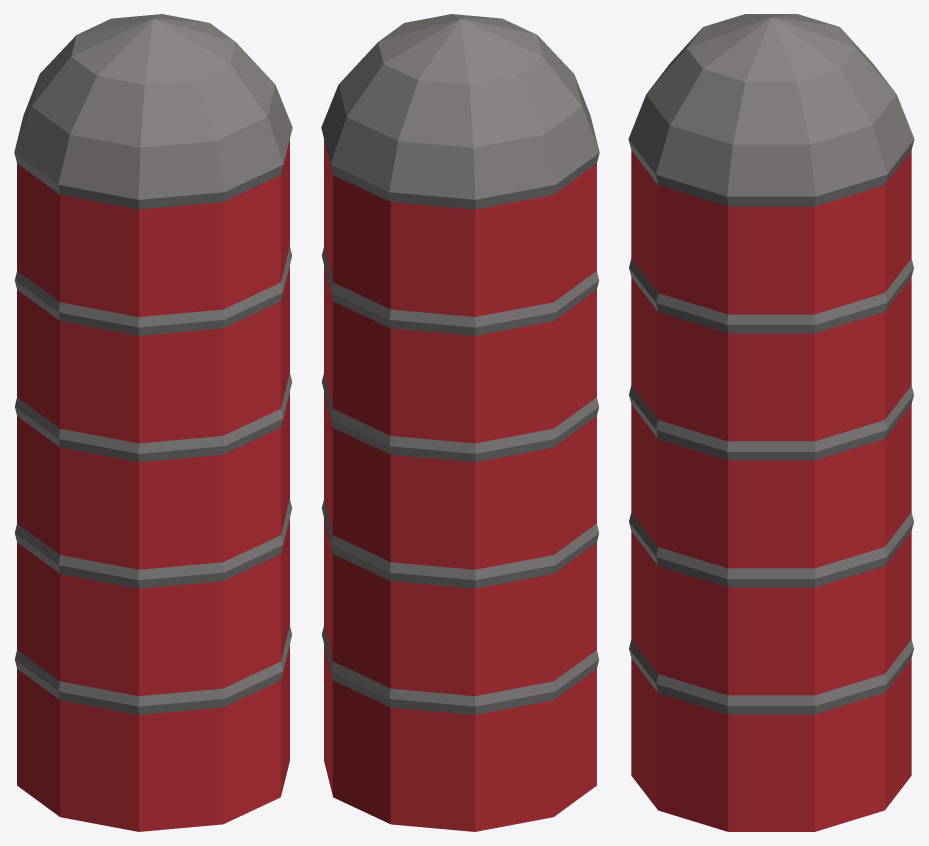
The model's file is farm-silo.glb.
3 views of the same model, side by side, from view 1: azimuth 30°, elevation 25°; view 2: azimuth 150°, elevation 25°; view 3: azimuth 270°, elevation 25° (orthographic).
Parts seen in each view (by area): view 1: farm-silo; view 2: farm-silo; view 3: farm-silo.
Boxes of the visible parts, <box> form: farm-silo: <box>14,14,292,831</box>; farm-silo: <box>321,14,599,831</box>; farm-silo: <box>628,14,914,831</box>.
Size of the model in its own units: 3.88 by 11.94 by 4.08.
Materials: 1 (1 with a texture image).
